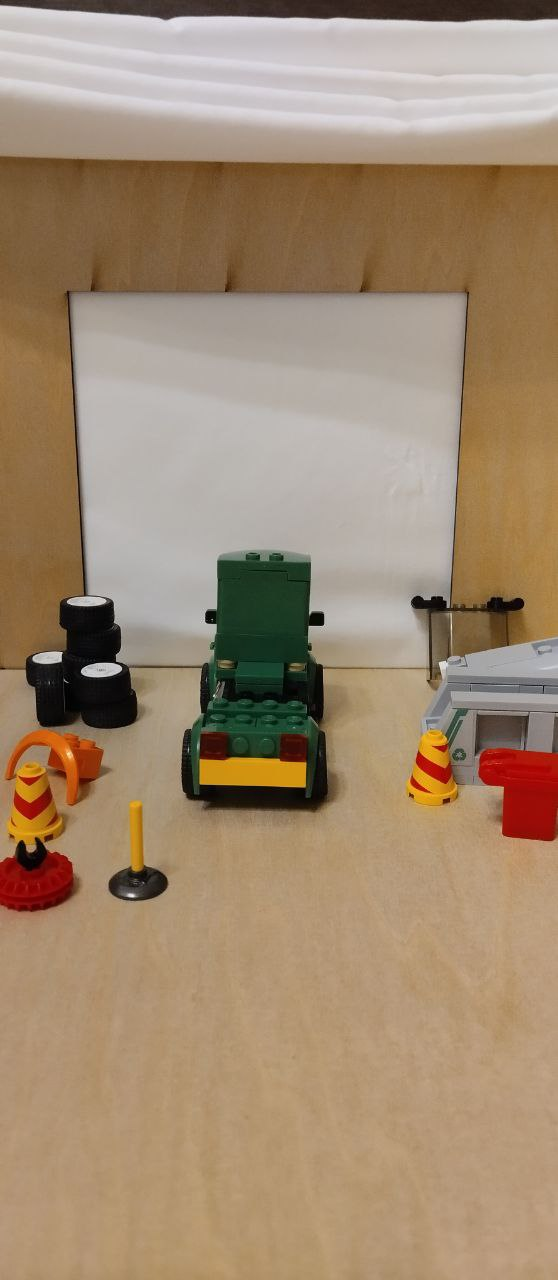Cone: (1, 762, 78, 848), (406, 723, 464, 812)
Object Red: (476, 736, 557, 845)
Truck: (171, 545, 335, 813)
